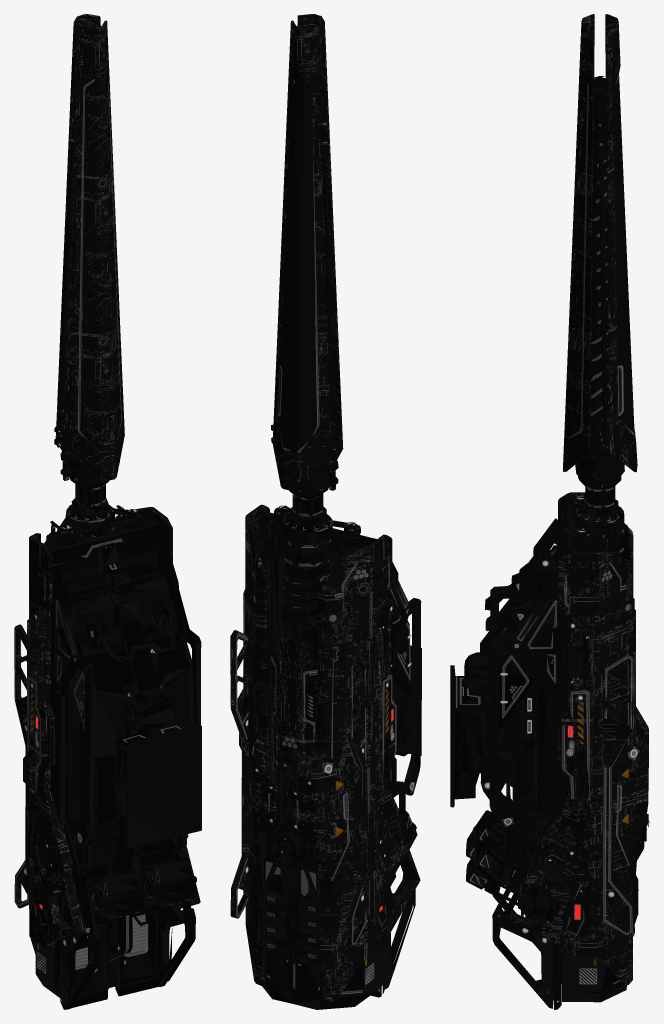
The model's file is m6a-cannon.glb.
3 views of the same model, side by side, from view 1: azimuth 30°, elevation 25°; view 2: azimuth 150°, elevation 25°; view 3: azimuth 270°, elevation 25° (orthographic). The views are drawn at different scales.
Parts seen in each view (by area): view 1: body; view 2: body; view 3: body.
Part boxes in pixels (x1,y1,x2,y2): body: (14,14,201,1009); body: (230,14,421,1009); body: (450,14,649,1009).
Size of the model in its own units: 0.9779 by 5.81 by 1.09.
7 materials, 5 textured.
